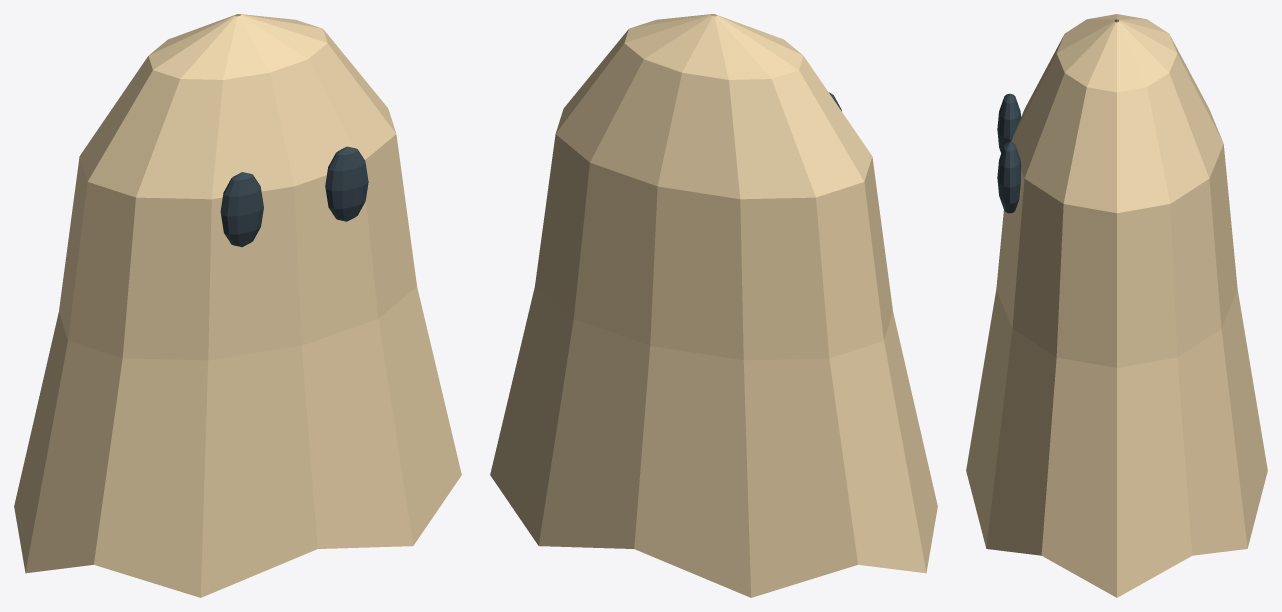
The model's file is ghost_sheet.glb.
3 views of the same model, side by side, from view 1: azimuth 30°, elevation 25°; view 2: azimuth 150°, elevation 25°; view 3: azimuth 270°, elevation 25° (orthographic). The views are drawn at different scales.
Visible parts, largest first — view 1: sheet, eye.001, eye; view 2: sheet; view 3: sheet, eye.001, eye.
Part boxes in pixels (x1=…): sheet: x1=14, y1=14, x2=461, y2=597; eye.001: x1=325, y1=146, x2=368, y2=221; eye: x1=220, y1=172, x2=263, y2=247; sheet: x1=490, y1=14, x2=937, y2=597; sheet: x1=966, y1=14, x2=1267, y2=597; eye.001: x1=997, y1=142, x2=1021, y2=213; eye: x1=997, y1=93, x2=1021, y2=152.
Size of the model in its own units: 1.3 by 1.48 by 0.845.
